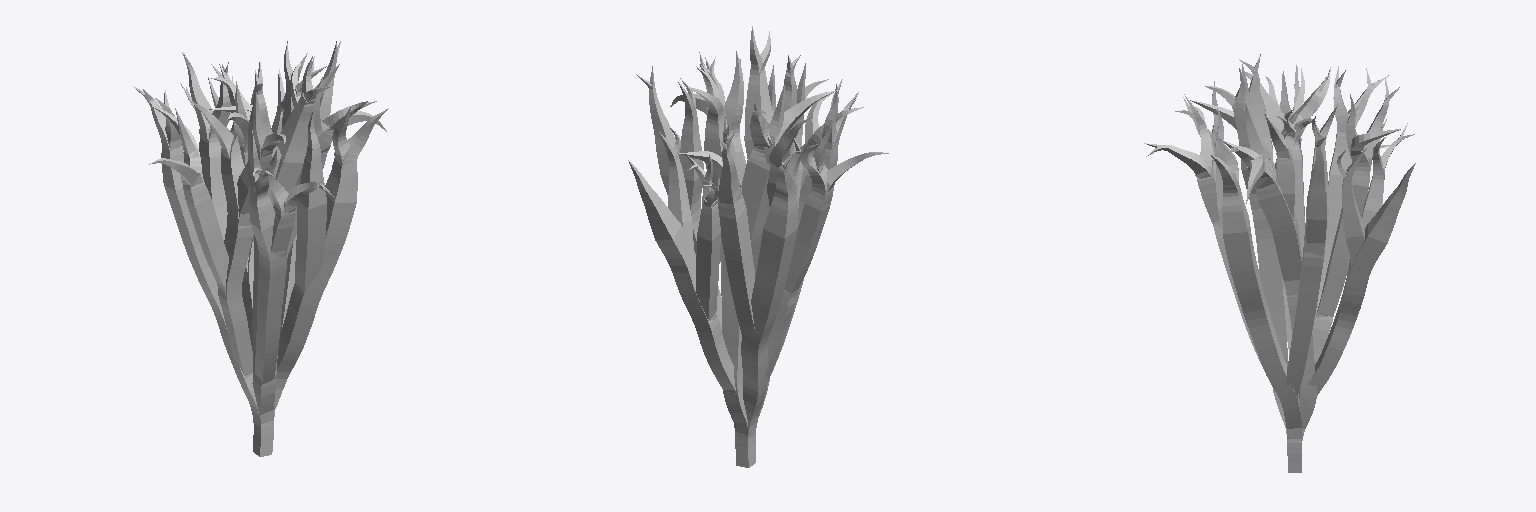
File: bendytree_000004.obj
3 renders of one model, left to right at view 1: azimuth 30°, elevation 25°; view 2: azimuth 150°, elevation 25°; view 3: azimuth 270°, elevation 25°, orthographic.
Visible parts, largest first — view 1: treemesh_treemesh.001; view 2: treemesh_treemesh.001; view 3: treemesh_treemesh.001.
Boxes of the visible parts, <box> form: treemesh_treemesh.001: <box>133,41,388,456</box>; treemesh_treemesh.001: <box>628,26,888,467</box>; treemesh_treemesh.001: <box>1144,54,1415,472</box>.
Size of the model in its own units: 3.78 by 6.5 by 3.9.